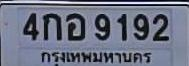1: (116, 13, 126, 40)
2: (152, 13, 168, 40)
4: (22, 12, 38, 39)
9: (94, 13, 109, 39), (133, 13, 148, 39)
A01: (42, 12, 61, 40)
A43: (65, 12, 84, 40)
BKK: (40, 51, 152, 66)
